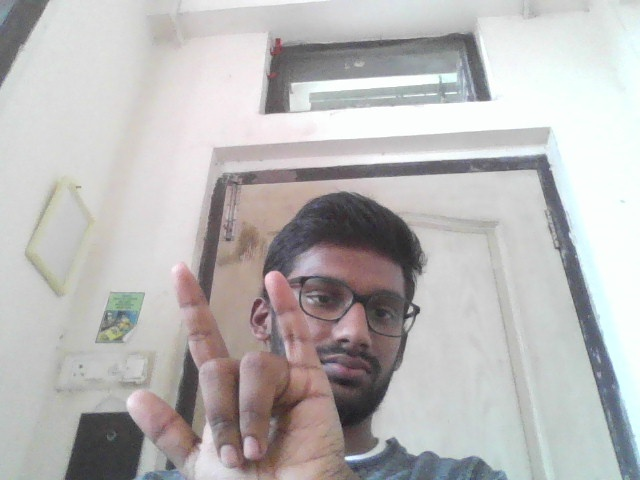I Love You: (120, 260, 352, 480)
